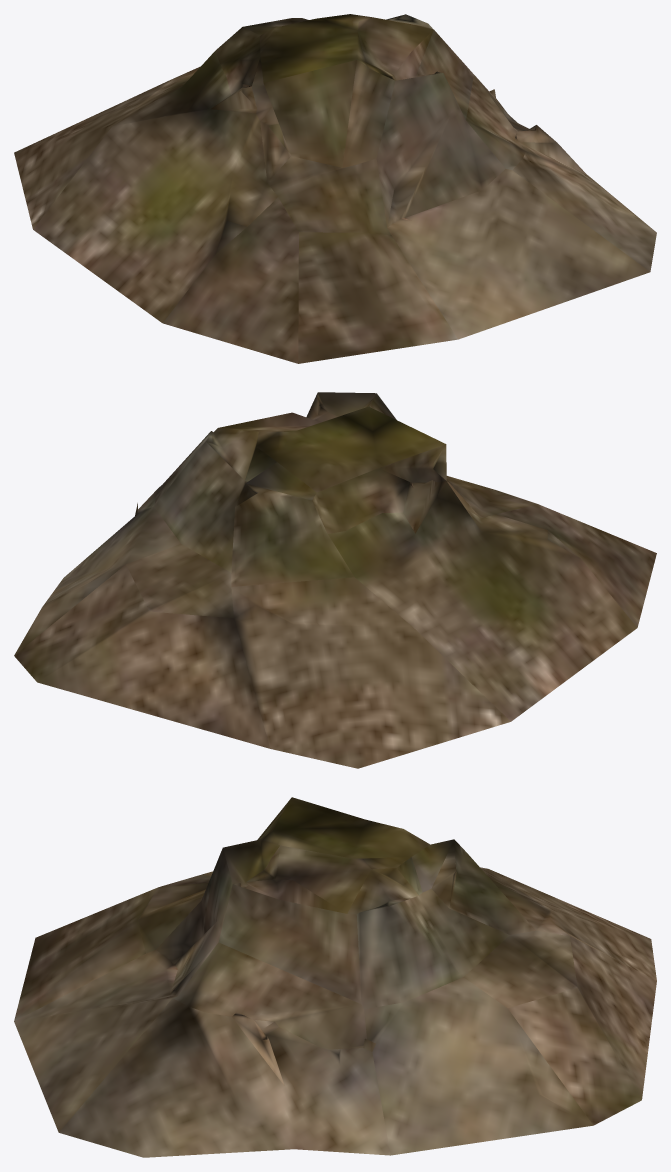
File: tree_stump_01_far.glb
3 views of the same model, one above another, from view 1: azimuth 30°, elevation 25°; view 2: azimuth 150°, elevation 25°; view 3: azimuth 270°, elevation 25° (orthographic). The views are drawn at different scales.
Parts seen in each view (by area): view 1: tree_stump_01; view 2: tree_stump_01; view 3: tree_stump_01.
Boxes of the visible parts, left/top/right/bottom form: tree_stump_01: left=14, top=14, right=656, bottom=363; tree_stump_01: left=14, top=392, right=656, bottom=768; tree_stump_01: left=14, top=797, right=656, bottom=1157.
Bounding box in the file's own units: 1.42 × 0.5399 × 1.57.
Materials: 1 (1 with a texture image).
